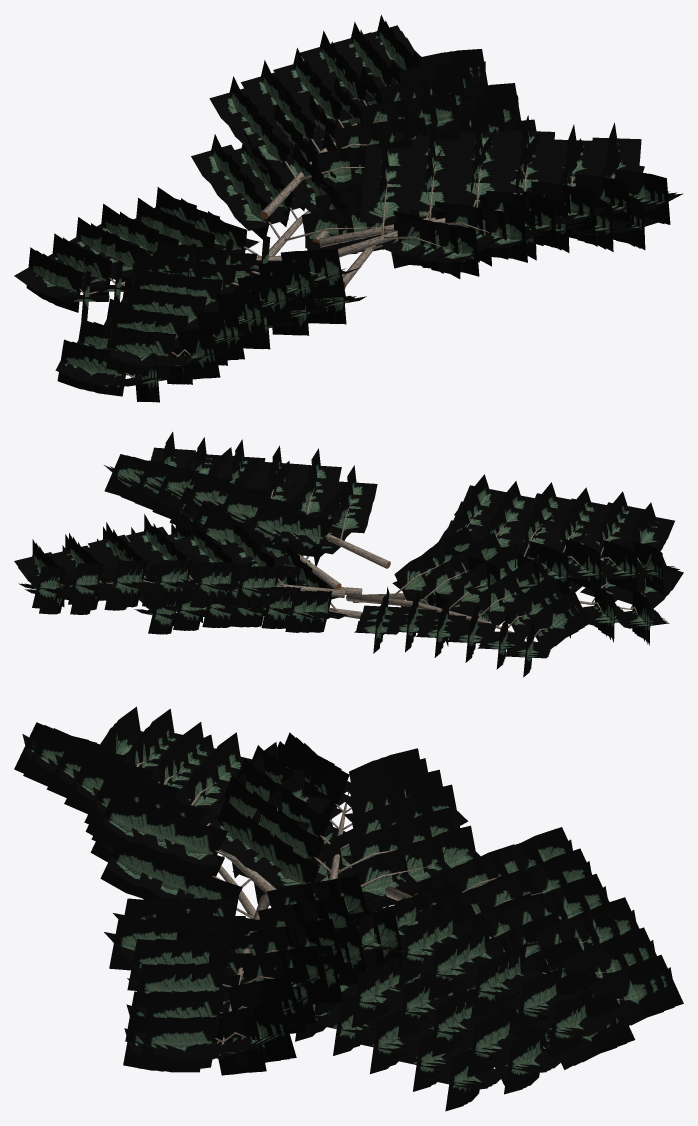
Rendered from SS_Brash_Green_02_LOD0.fbx.
The picture shows the model from 3 angles, top to bottom: view 1: azimuth 30°, elevation 25°; view 2: azimuth 150°, elevation 25°; view 3: azimuth 270°, elevation 25°; orthographic projection. The views are drawn at different scales.
Parts seen in each view (by area): view 1: SS_Brash_Green_02_LOD0_Foliage, SS_Brash_Green_02_LOD0_Structure; view 2: SS_Brash_Green_02_LOD0_Foliage, SS_Brash_Green_02_LOD0_Structure; view 3: SS_Brash_Green_02_LOD0_Foliage, SS_Brash_Green_02_LOD0_Structure.
Boxes of the visible parts, x1,y1,x2,y2 form: SS_Brash_Green_02_LOD0_Foliage: [14, 15, 683, 402]; SS_Brash_Green_02_LOD0_Structure: [79, 84, 632, 387]; SS_Brash_Green_02_LOD0_Foliage: [14, 432, 683, 677]; SS_Brash_Green_02_LOD0_Structure: [60, 487, 643, 641]; SS_Brash_Green_02_LOD0_Foliage: [14, 706, 683, 1111]; SS_Brash_Green_02_LOD0_Structure: [136, 759, 622, 1055].
Bounding box in the file's own units: 671 × 136 × 535.
